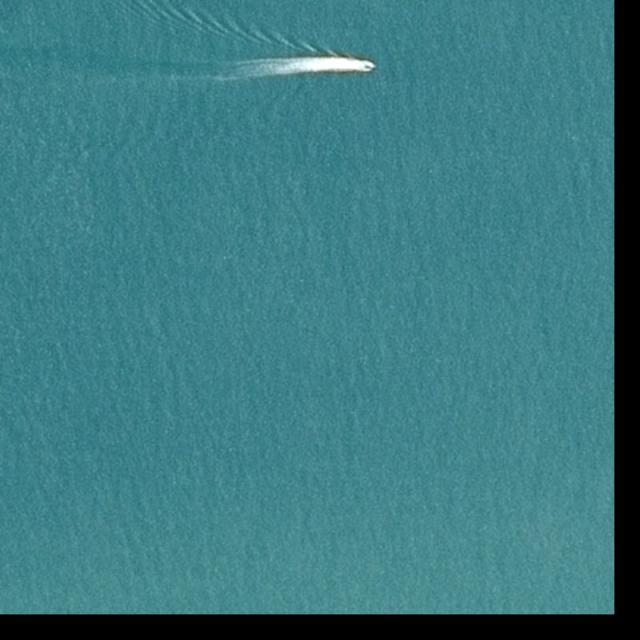ship: (359, 62, 378, 72)
